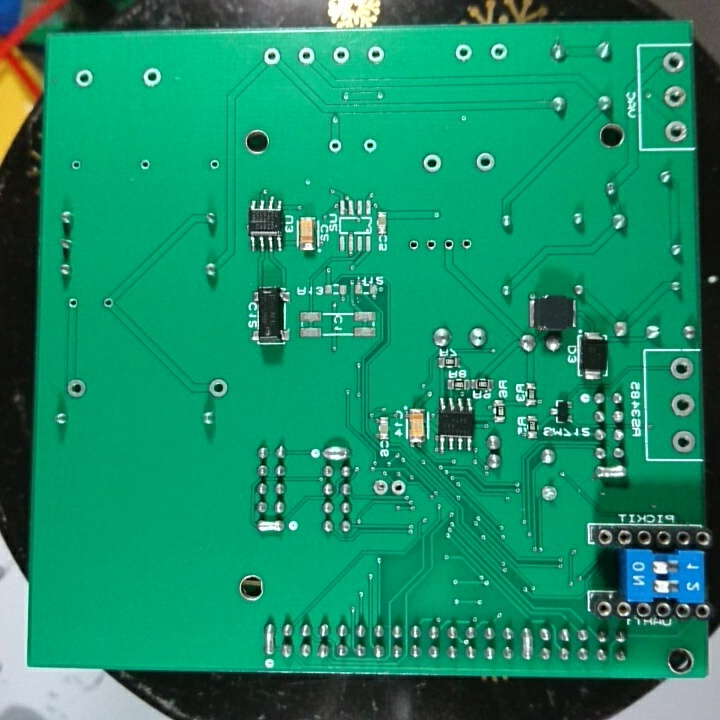F: (667, 388, 696, 422), (417, 147, 447, 177), (658, 47, 687, 78), (667, 354, 696, 384), (660, 116, 688, 147), (669, 427, 699, 455), (661, 83, 688, 112), (472, 149, 498, 178), (258, 43, 285, 69), (451, 40, 476, 66), (295, 42, 319, 69), (205, 375, 230, 400), (139, 64, 164, 89), (73, 66, 97, 92), (330, 40, 352, 68), (63, 376, 88, 400), (486, 40, 511, 64), (364, 41, 387, 65), (360, 135, 381, 157), (539, 482, 559, 505), (370, 477, 390, 498), (325, 137, 345, 156), (390, 477, 407, 499), (99, 295, 117, 311), (136, 156, 154, 172), (206, 155, 221, 173), (441, 236, 455, 254), (424, 235, 438, 253), (66, 295, 81, 311), (459, 236, 474, 252), (69, 156, 83, 172), (406, 238, 419, 253)
P: (593, 463, 628, 481), (255, 517, 286, 537), (261, 619, 277, 657), (519, 624, 534, 664), (320, 443, 351, 461)
